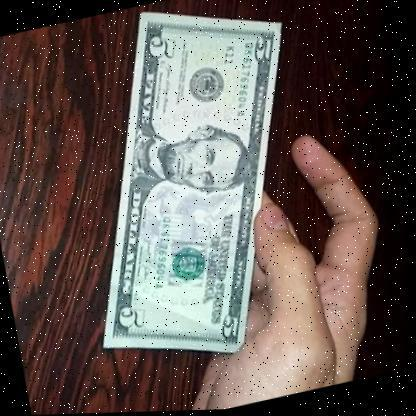five-front: (45, 0, 346, 383)
